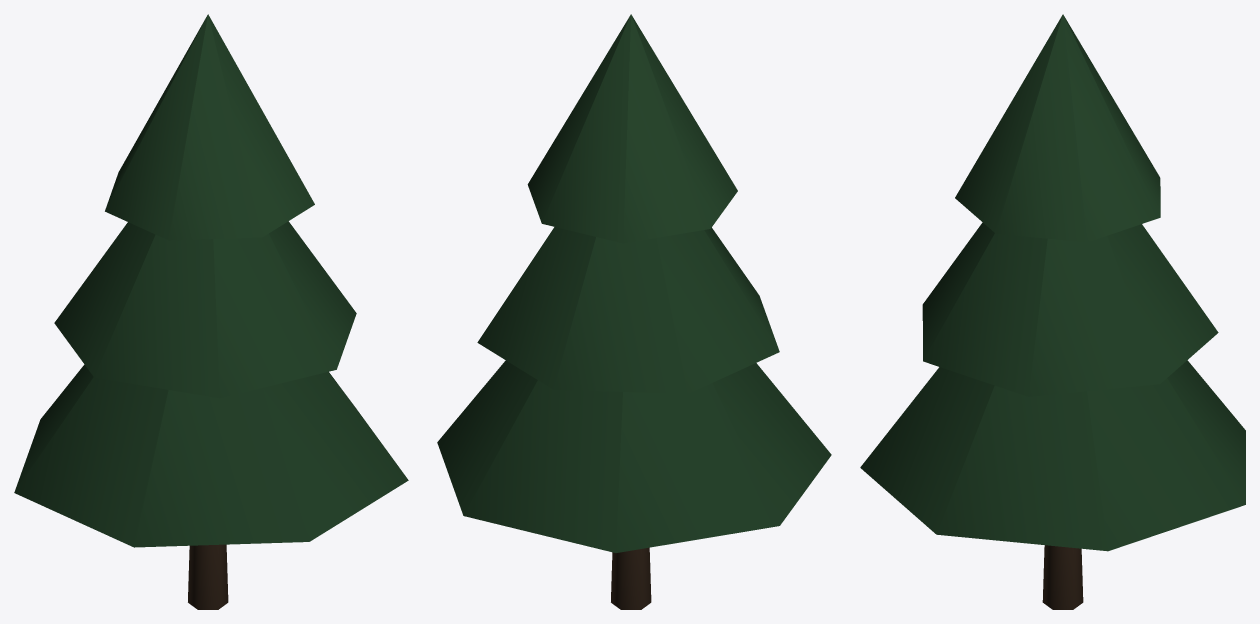
File: pinheiro_alto.glb
3 views of the same model, side by side, from view 1: azimuth 30°, elevation 25°; view 2: azimuth 150°, elevation 25°; view 3: azimuth 270°, elevation 25° (orthographic).
Parts seen in each view (by area): view 1: pinheiro_alto_liso; view 2: pinheiro_alto_liso; view 3: pinheiro_alto_liso.
Boxes of the visible parts, bbox=[...] form: pinheiro_alto_liso: bbox=[14, 14, 408, 609]; pinheiro_alto_liso: bbox=[437, 14, 831, 609]; pinheiro_alto_liso: bbox=[860, 14, 1245, 609].
Size of the model in its own units: 8.19 by 13.44 by 7.98.
